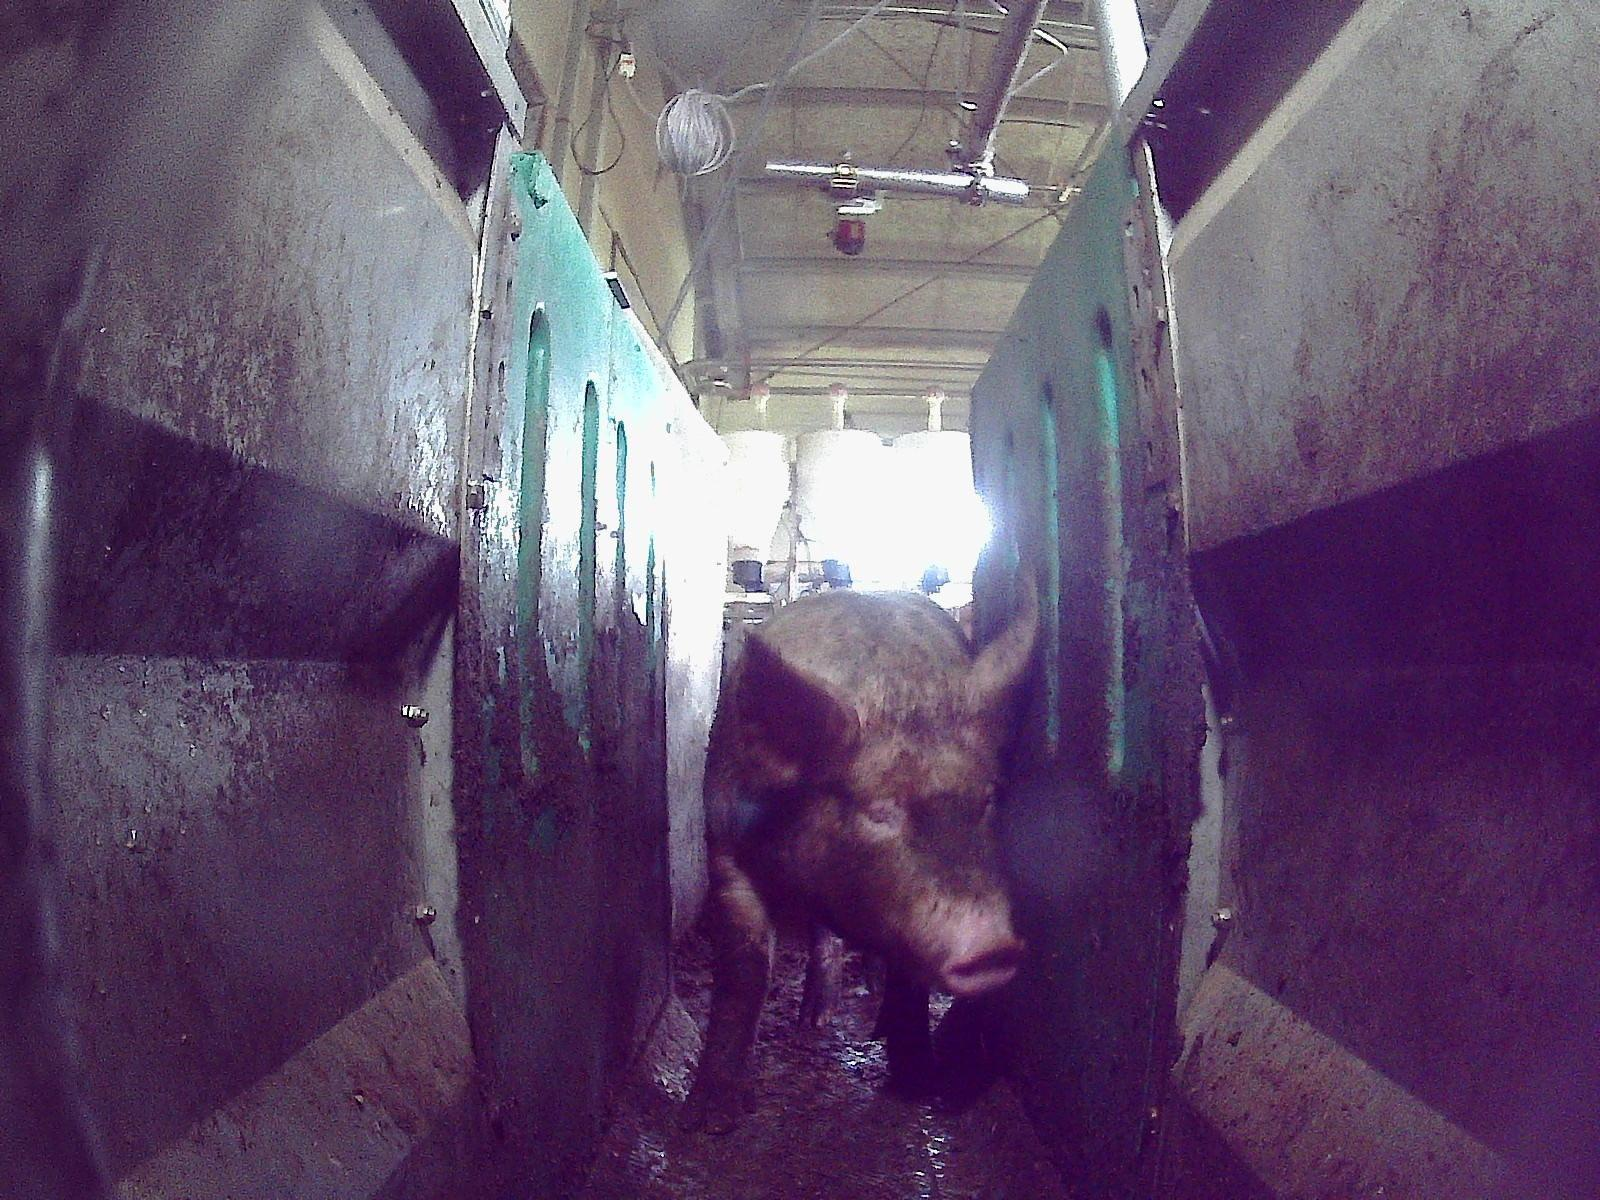Face: (813, 665, 1027, 995)
